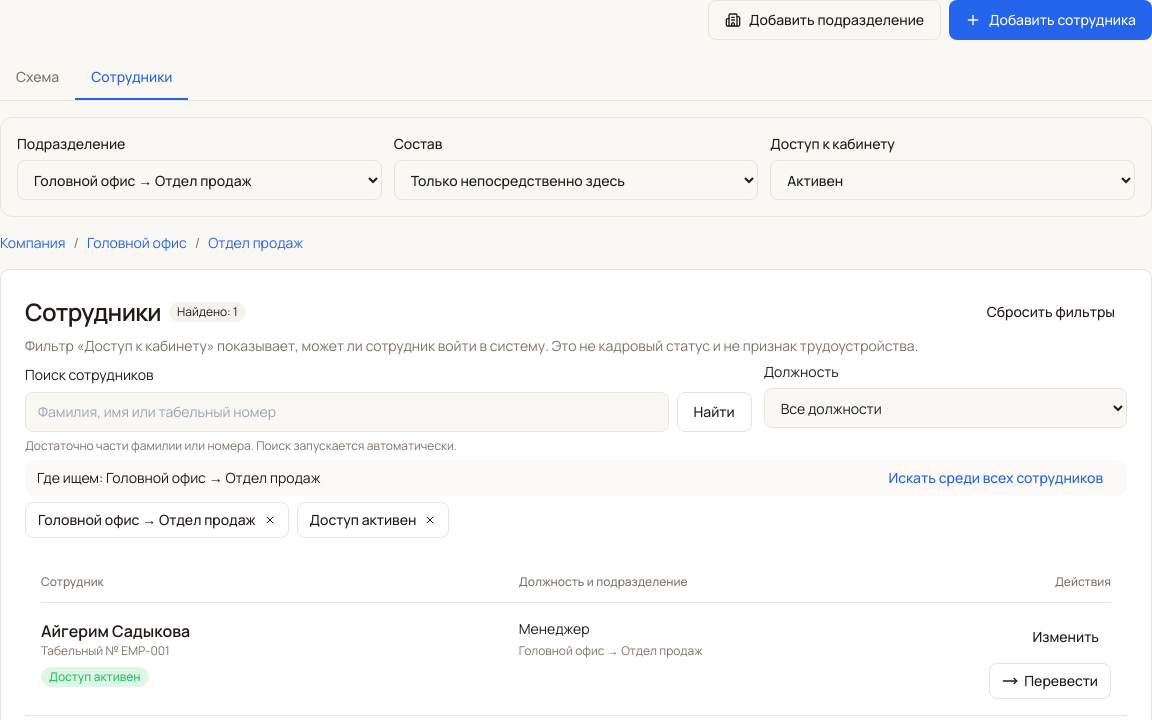
StaffWorkspace › uses safe copy for the canonical preview_expired confirmation envelope
Click the button "Перевести". click: [1050, 681]
box: [989,663,1111,699]
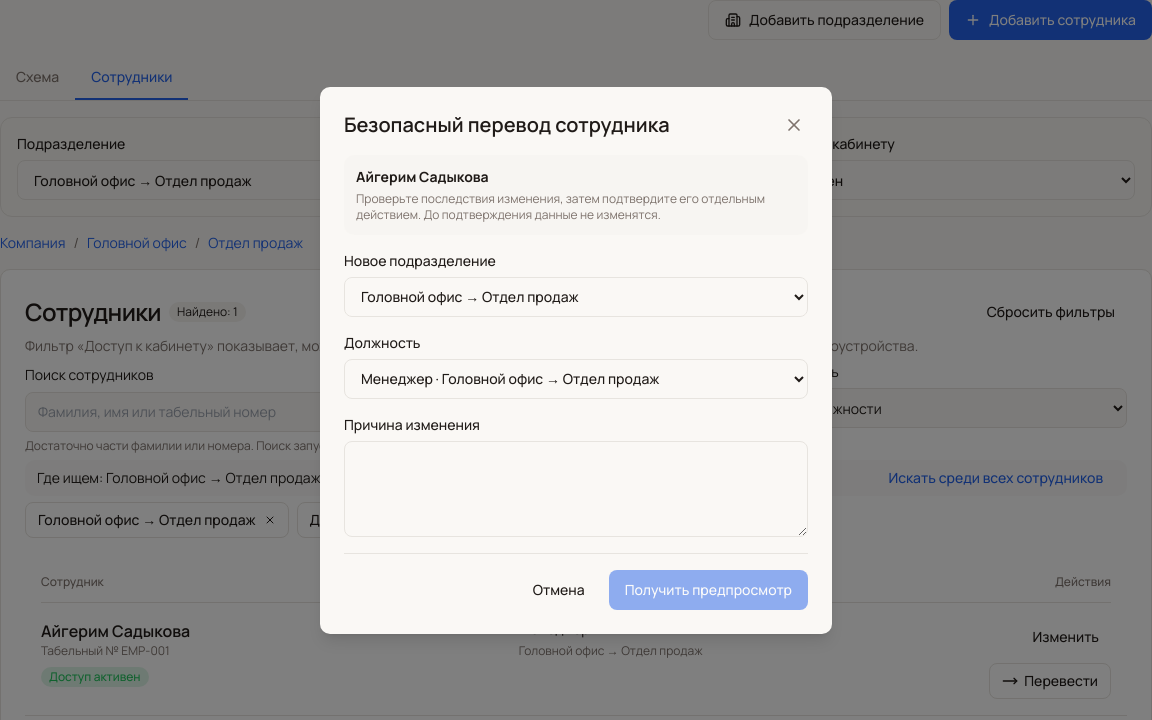
Type "Новая команда" into the text box labelled "Причина изменения". click: [576, 488]
box: [344,440,808,536]
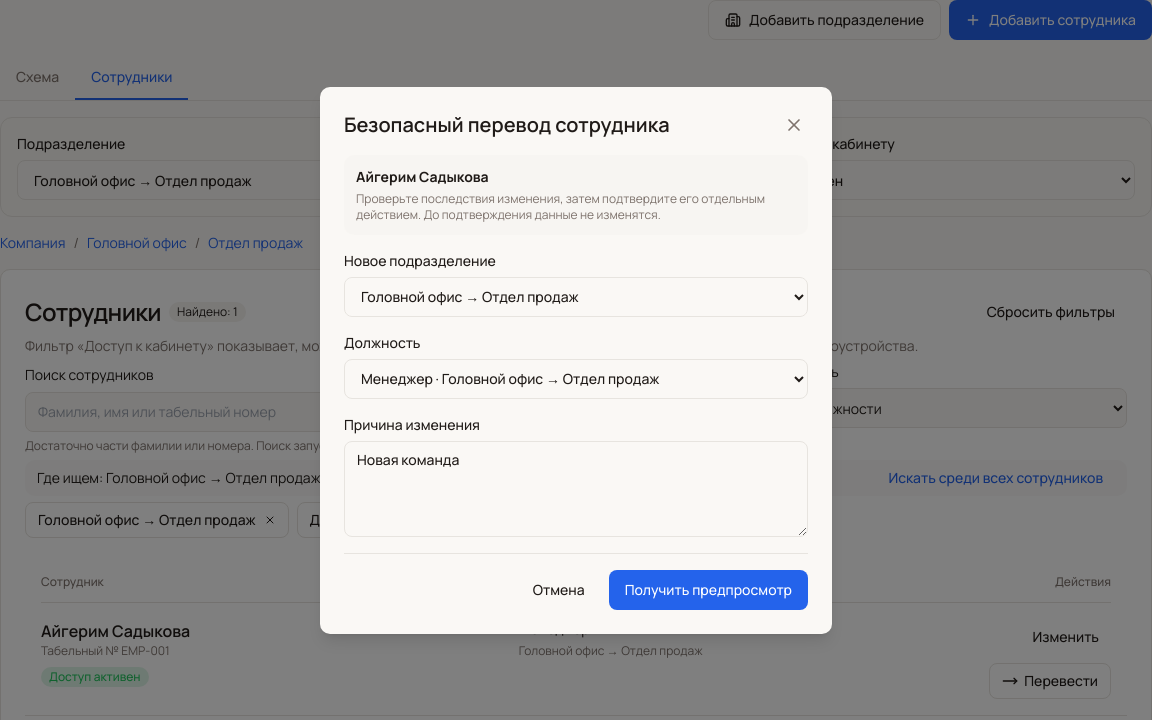
Click the button "Получить предпросмотр". click: [708, 590]
box: [609,570,808,610]
(page scrolled)
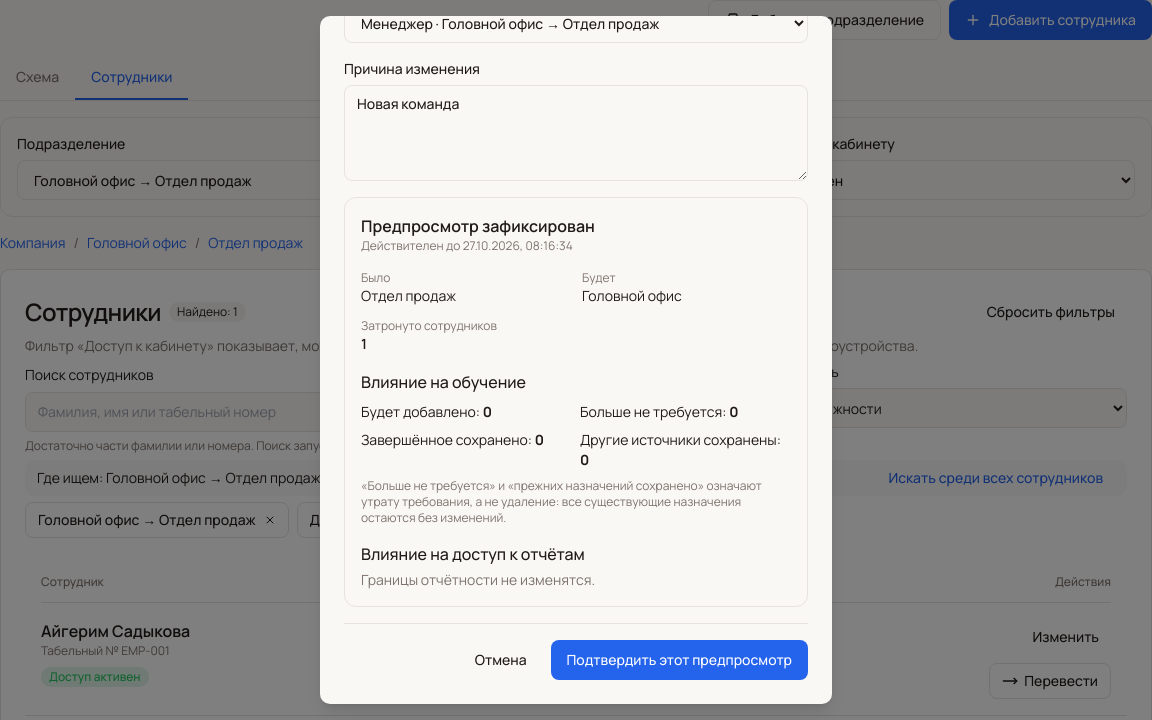
Click the button "Подтвердить этот предпросмотр". click: [679, 660]
box: [550,640,808,680]
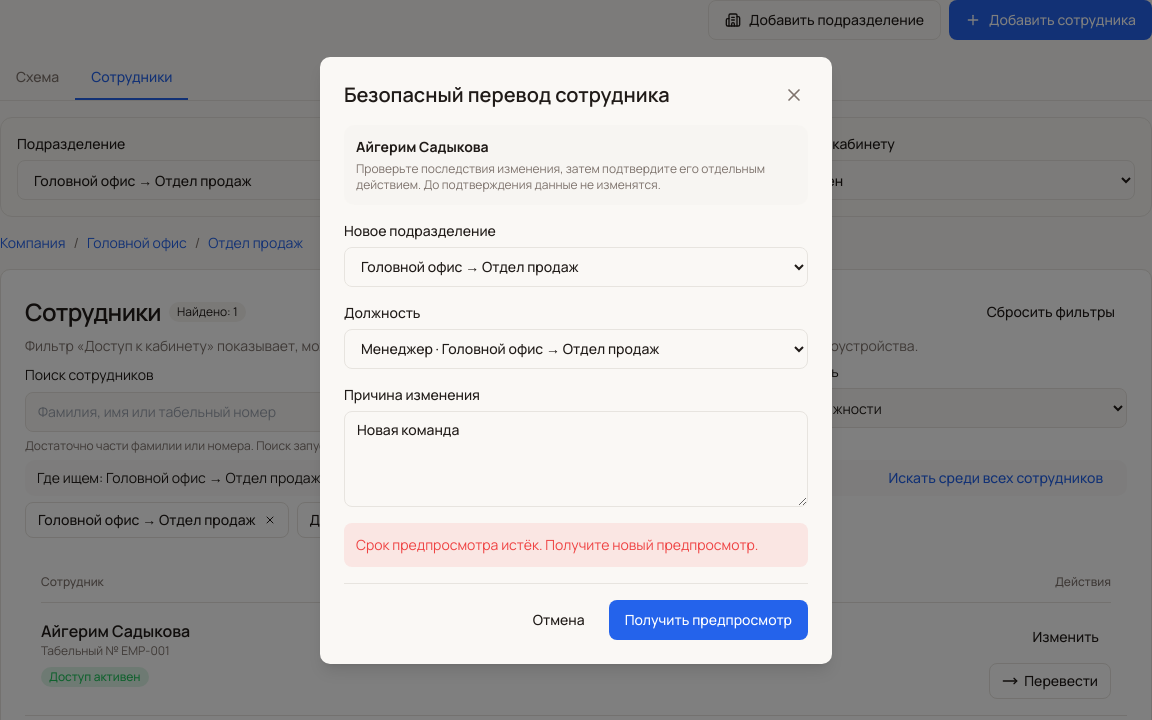
Now the button "Получить предпросмотр" is enabled, box [609,600,808,640]
Now the message reads "Срок предпросмотра истёк. Получите новый предпросмотр.", box [356,534,758,554]
Now the button "Подтвердить этот предпросмотр" is gone
